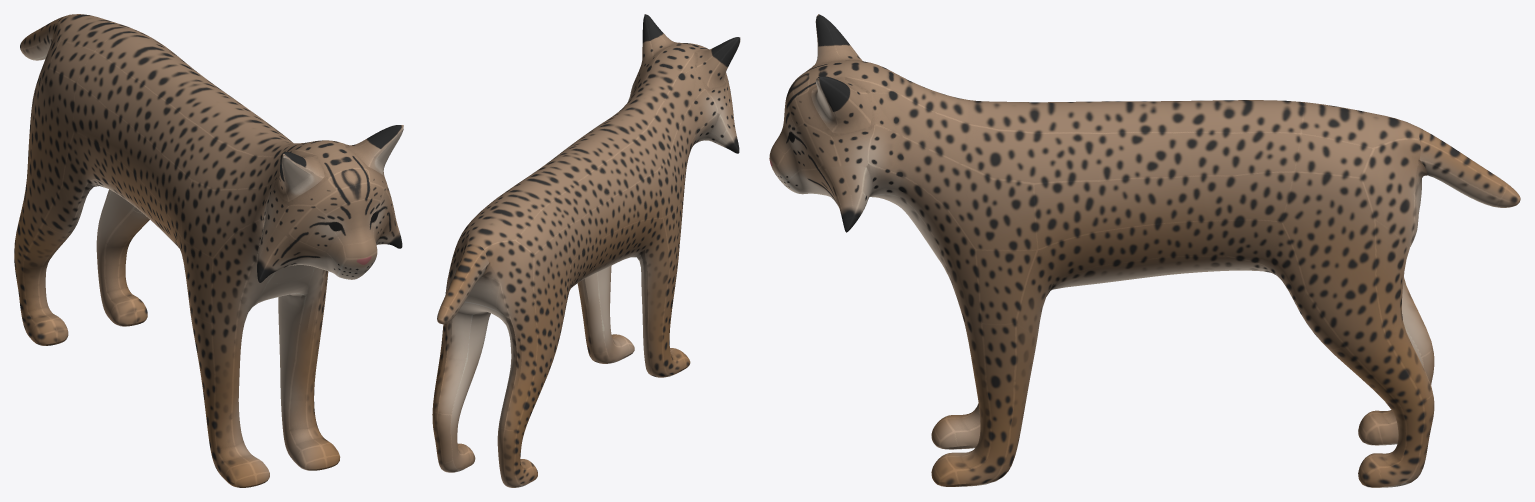
The model's file is Bobcat.obj.
3 views of the same model, side by side, from view 1: azimuth 30°, elevation 25°; view 2: azimuth 150°, elevation 25°; view 3: azimuth 270°, elevation 25° (orthographic). The views are drawn at different scales.
Parts seen in each view (by area): view 1: Default; view 2: Default; view 3: Default.
Boxes of the visible parts, x1,y1,x2,y2 form: Default: (14,14,403,487); Default: (432,14,740,487); Default: (769,14,1520,487).
Size of the model in its own units: 0.1898 by 0.4783 by 0.7839.
1 material, 1 textured.
